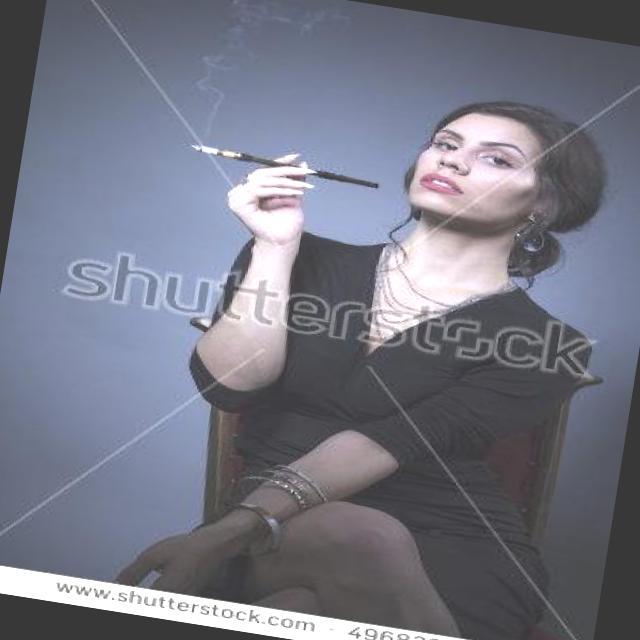smoke: (165, 124, 391, 202)
